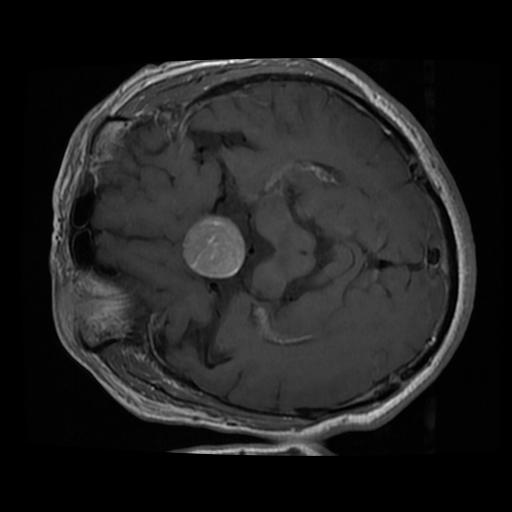pituitary tumour: (181, 217, 247, 280)
